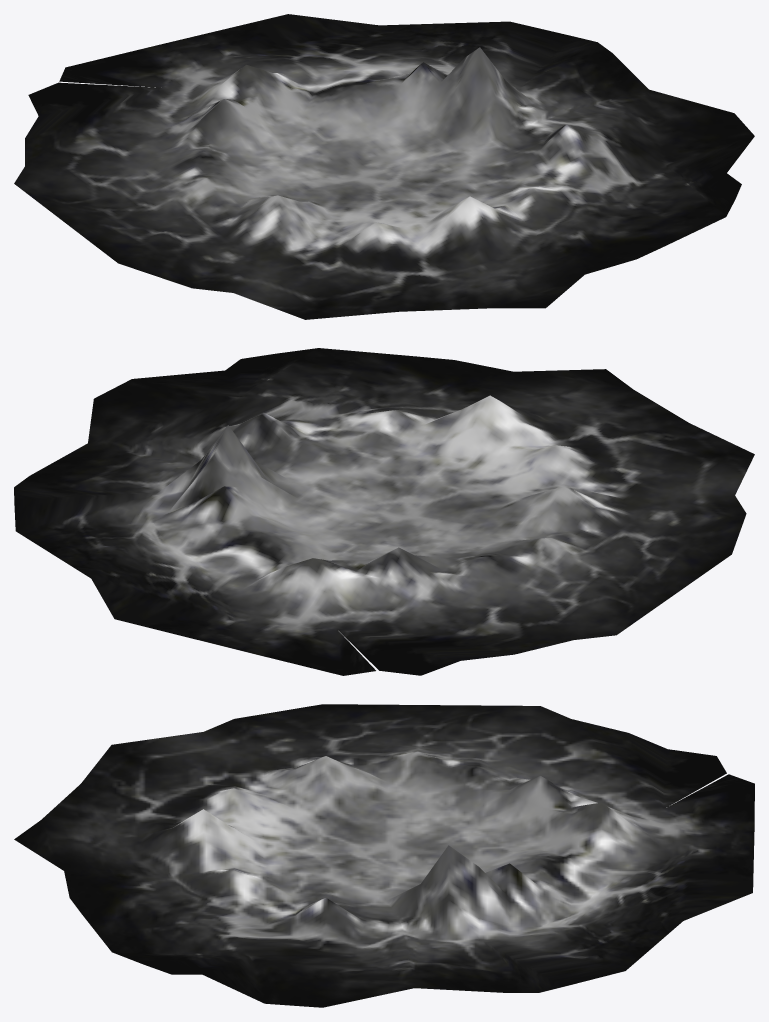
File: crater.FBX
3 renders of one model, top to bottom at view 1: azimuth 30°, elevation 25°; view 2: azimuth 150°, elevation 25°; view 3: azimuth 270°, elevation 25°, orthographic. The views are drawn at different scales.
Visible parts, largest first — view 1: crater; view 2: crater; view 3: crater.
Part boxes in pixels (left/top/right/bottom): crater: left=14, top=14, right=754, bottom=319; crater: left=14, top=348, right=754, bottom=675; crater: left=14, top=704, right=754, bottom=1007.
Bounding box in the file's own units: 55.07 × 6.37 × 56.81.
